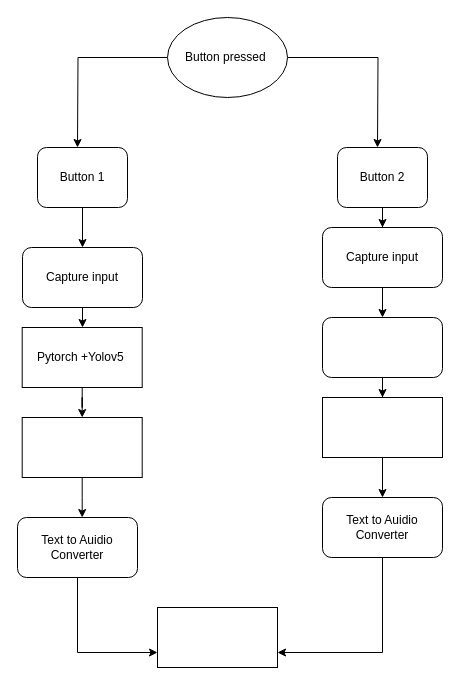
Image size: 460x685. Some labels were removed from this diagram. Here are the shapes that lost their labels. From the top down, the centre of each, then its label:
At [382,347]: "Image Pre-processing".
At [81,447]: "Classification, boxding , Localization".
At [382,427]: "Opencv+Tesseract-v4 Ocr".
At [217,637]: "Audio output".
